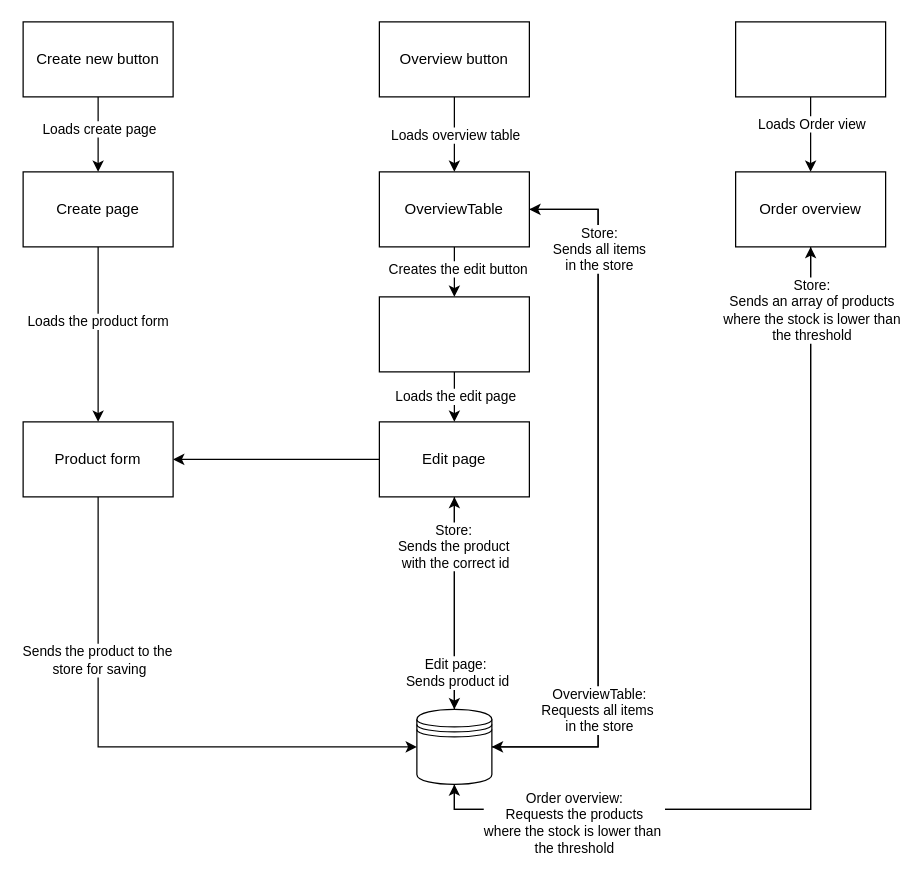
Image size: 921x878. Some labels were removed from this diagram. Each missing label, with the box of its shape:
Edit button: (378, 296, 529, 372)
Store: (416, 708, 492, 784)
To order button: (734, 21, 886, 97)
